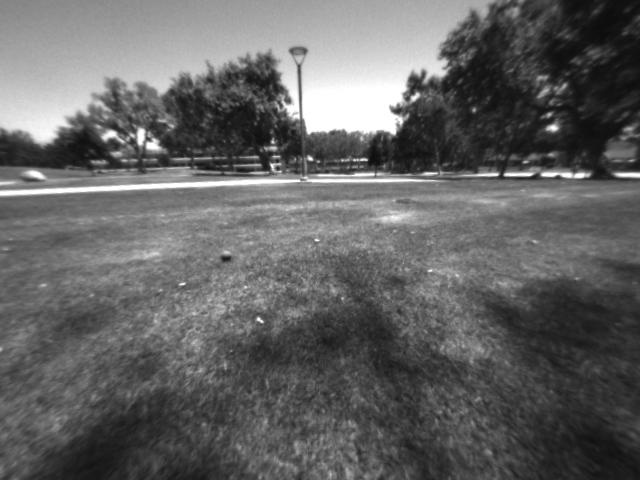dogtoy: (215, 241, 243, 269)
